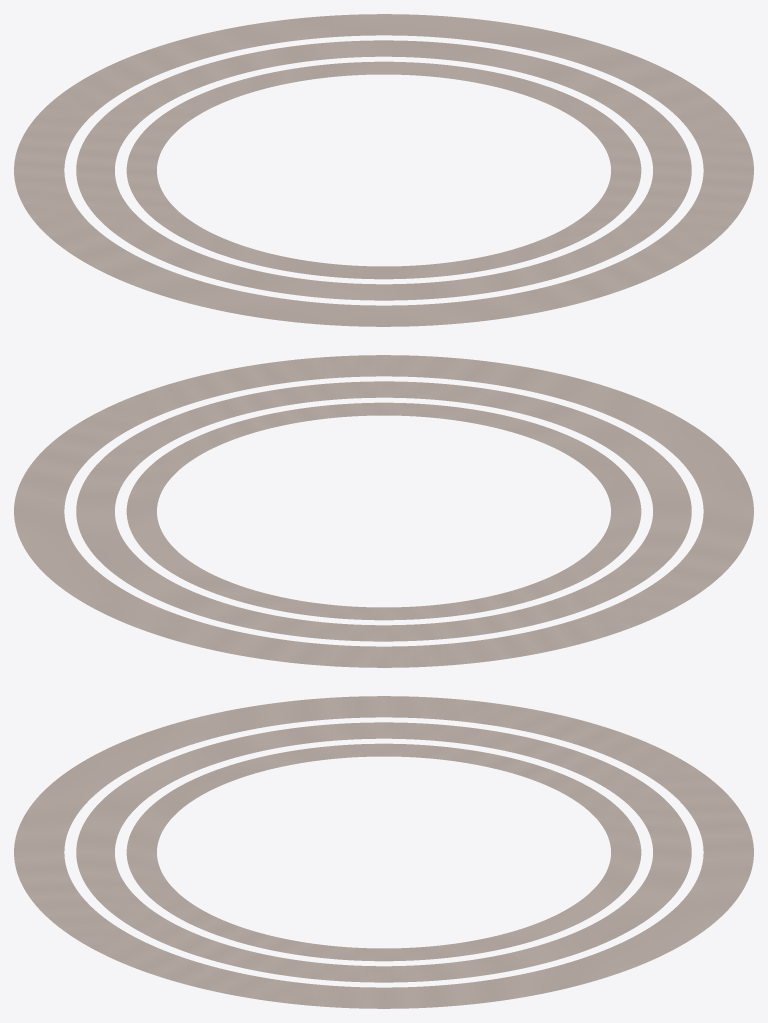
Rendered from planet-rings.glb.
The picture shows the model from 3 angles, top to bottom: view 1: azimuth 30°, elevation 25°; view 2: azimuth 150°, elevation 25°; view 3: azimuth 270°, elevation 25°; orthographic projection.
Parts seen in each view (by area): view 1: Three candy ring bands 1.35R to 2.2R; view 2: Three candy ring bands 1.35R to 2.2R; view 3: Three candy ring bands 1.35R to 2.2R.
Part boxes in pixels (bbox=[...]): Three candy ring bands 1.35R to 2.2R: bbox=[14, 14, 753, 326]; Three candy ring bands 1.35R to 2.2R: bbox=[14, 355, 753, 667]; Three candy ring bands 1.35R to 2.2R: bbox=[14, 696, 753, 1008].
Size of the model in its own units: 4.4 by 0 by 4.4.
